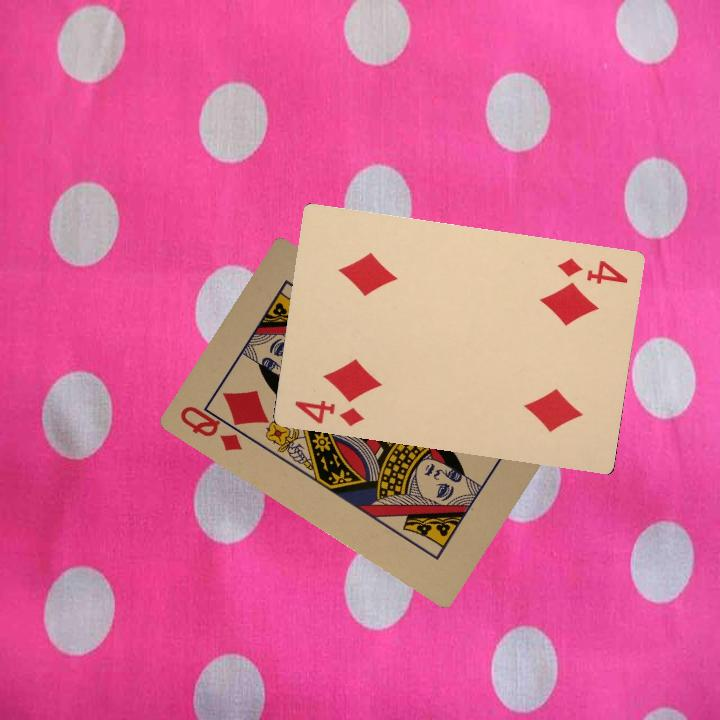4d: (553, 254, 631, 287), (290, 396, 366, 429)
Qd: (175, 401, 256, 454)
